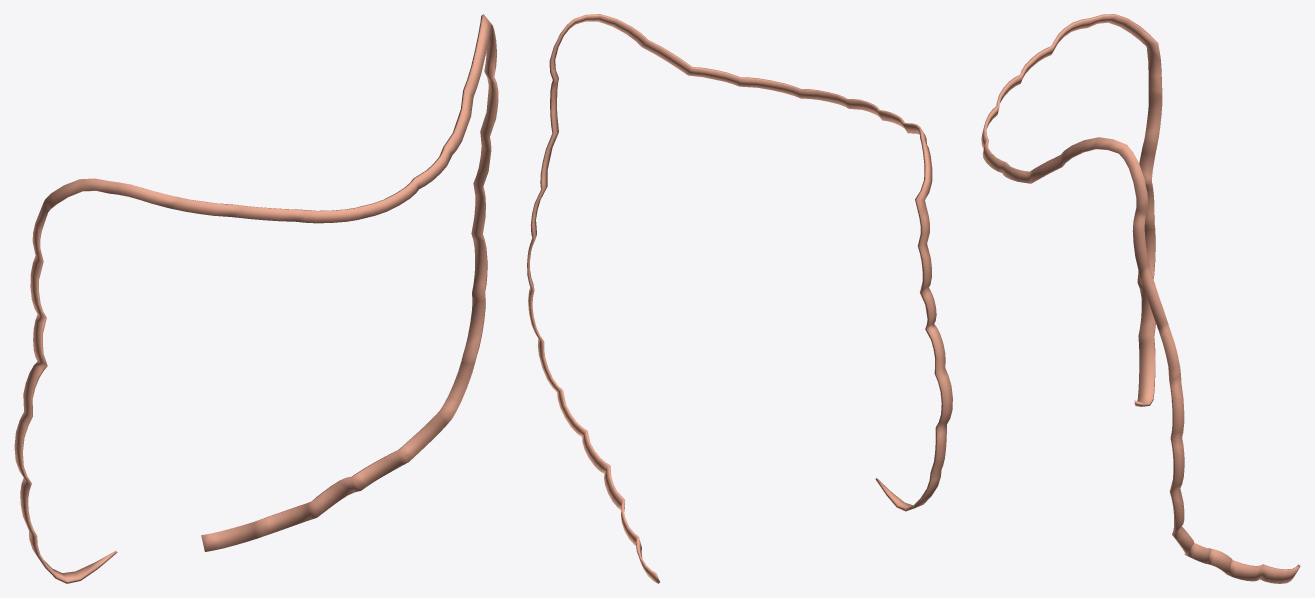
Rendered from visceras-mesocolic-taenia.glb.
The picture shows the model from 3 angles, left to right: view 1: azimuth 30°, elevation 25°; view 2: azimuth 150°, elevation 25°; view 3: azimuth 270°, elevation 25°; orthographic projection. The views are drawn at different scales.
Visible parts, largest first — view 1: Mesocolic taenia; view 2: Mesocolic taenia; view 3: Mesocolic taenia.
Boxes of the visible parts, x1,y1,x2,y2 form: Mesocolic taenia: (14, 14, 498, 583); Mesocolic taenia: (527, 14, 952, 583); Mesocolic taenia: (981, 14, 1300, 583).
Bounding box in the file's own units: 0.2252 × 0.2476 × 0.1372.
